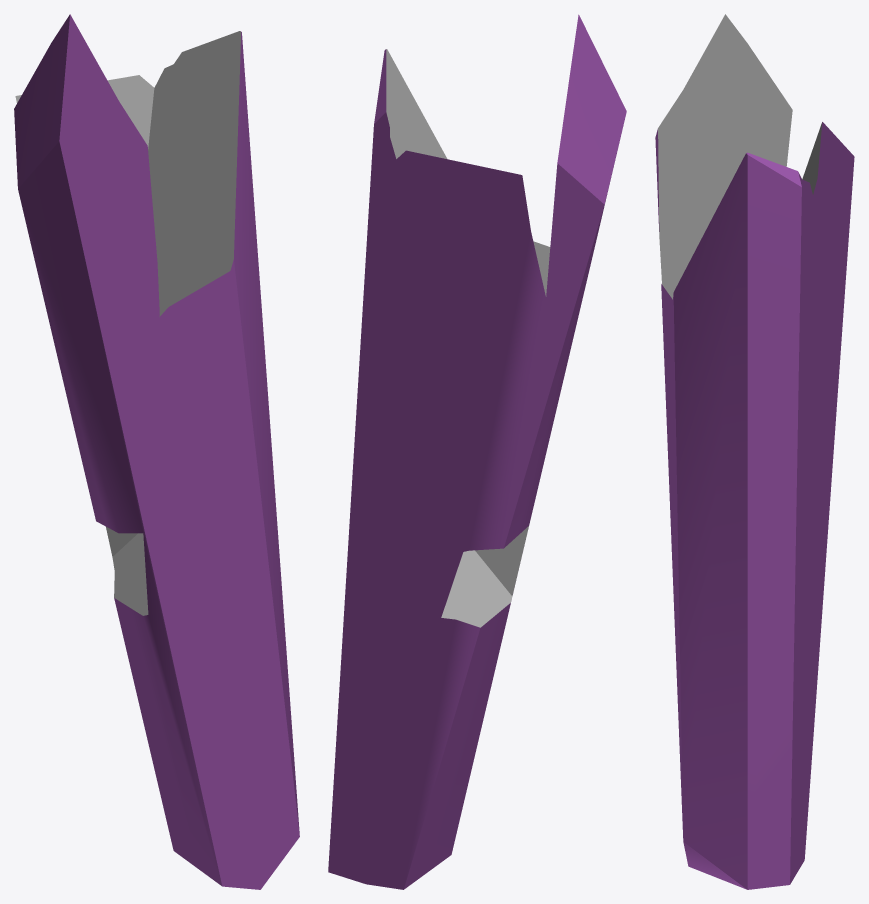
The model's file is Broken_Crystal_2_LOD.fbx.
3 views of the same model, side by side, from view 1: azimuth 30°, elevation 25°; view 2: azimuth 150°, elevation 25°; view 3: azimuth 270°, elevation 25° (orthographic). The views are drawn at different scales.
Parts seen in each view (by area): view 1: polySurface164; view 2: polySurface164; view 3: polySurface164.
Boxes of the visible parts, bbox=[...] form: polySurface164: bbox=[14, 14, 299, 889]; polySurface164: bbox=[328, 14, 626, 889]; polySurface164: bbox=[655, 14, 854, 889].
Size of the model in its own units: 3.24 by 10.4 by 2.4.
